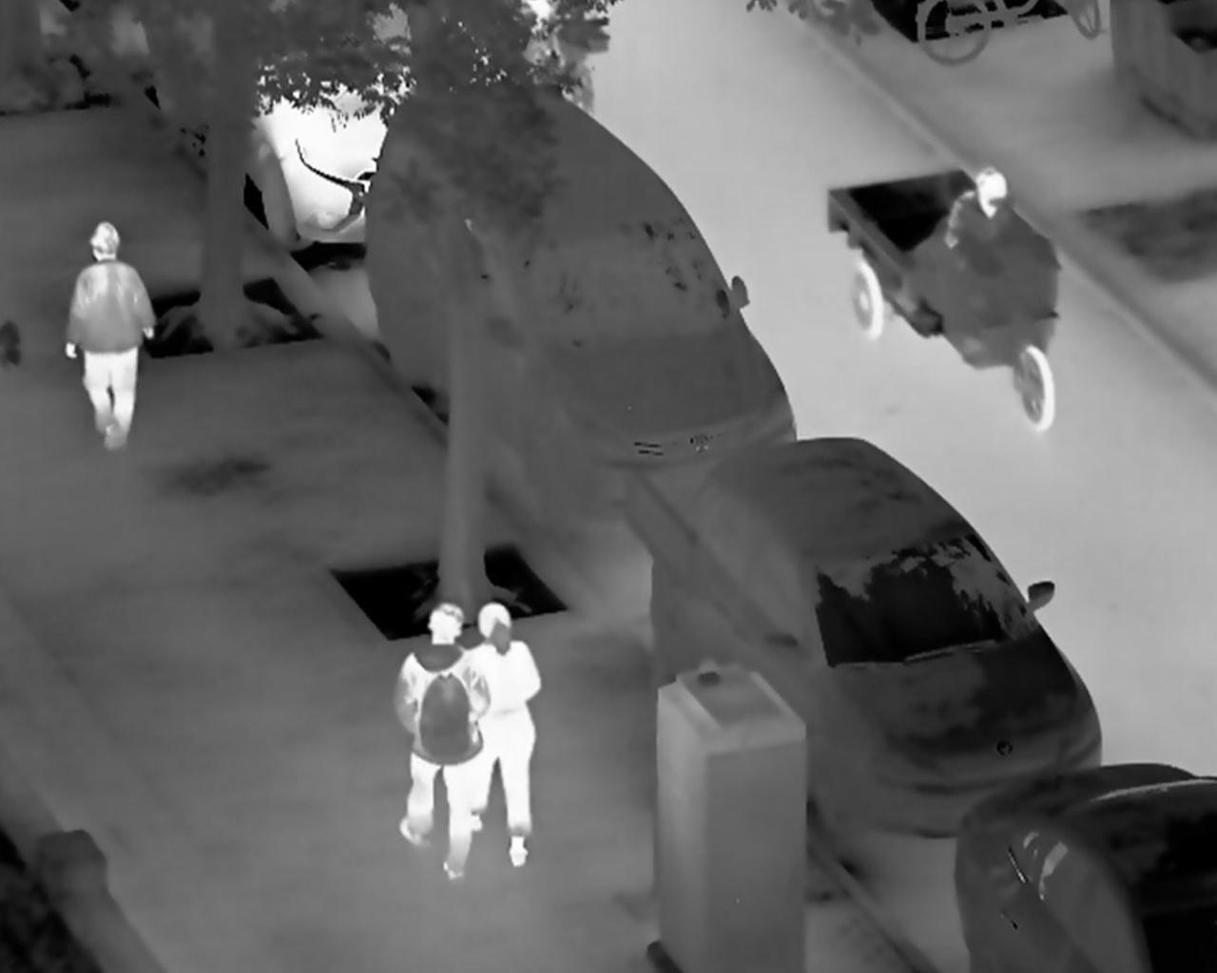person: (389, 596, 491, 882), (64, 218, 156, 453), (463, 600, 537, 869), (940, 161, 1053, 267)
